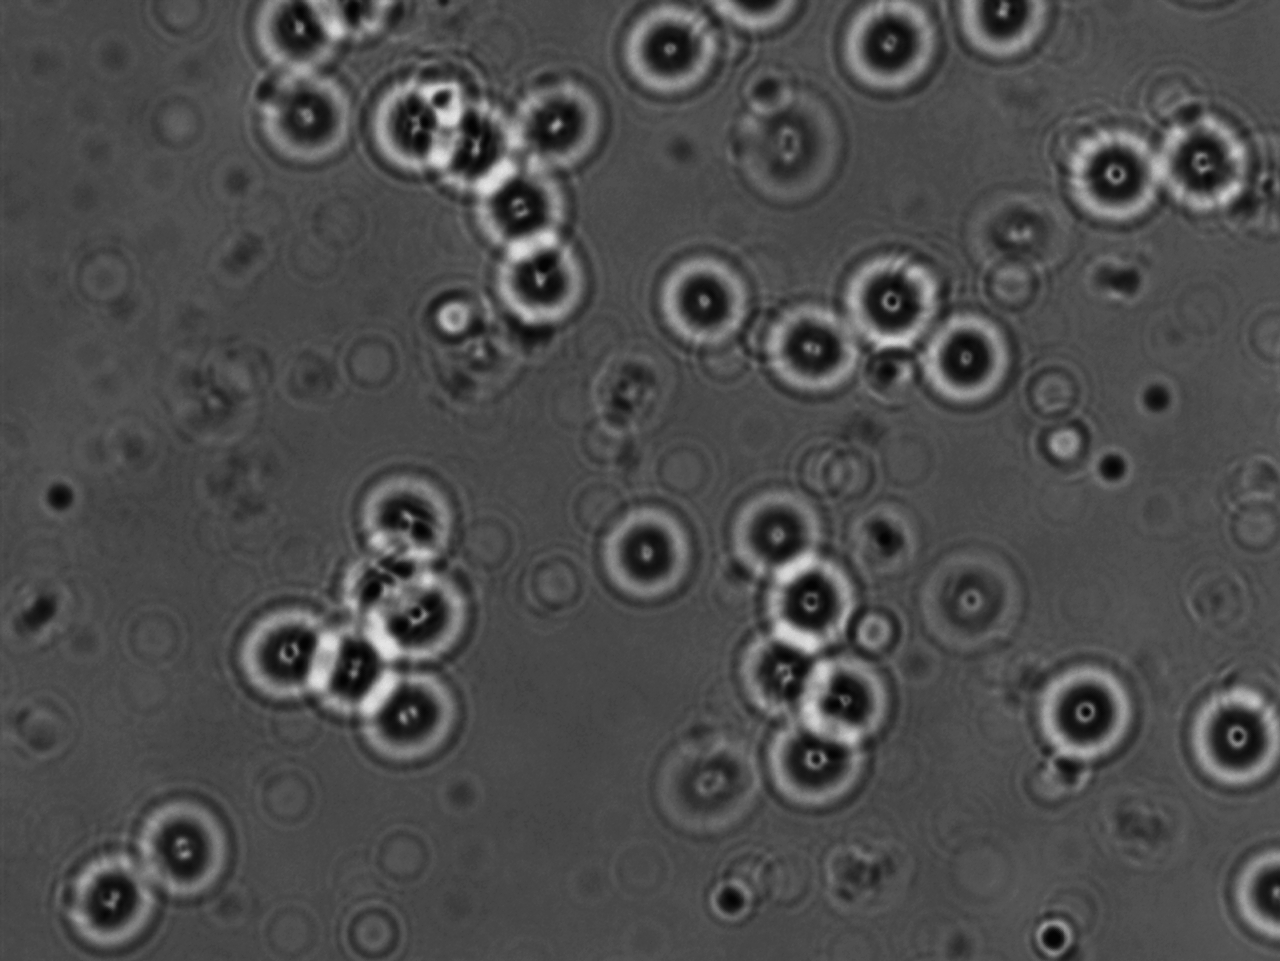depth:-8: (785, 637, 921, 768), (582, 485, 714, 613), (718, 608, 850, 723), (341, 456, 477, 567), (347, 660, 470, 777), (127, 789, 248, 907), (222, 589, 339, 711), (1055, 117, 1175, 235), (1152, 100, 1269, 221), (830, 235, 944, 359), (916, 292, 1026, 418), (355, 76, 473, 191), (752, 547, 875, 657), (757, 708, 877, 819), (1033, 650, 1142, 772), (647, 235, 753, 360), (748, 297, 861, 413), (487, 217, 597, 335), (297, 617, 406, 735), (615, 0, 738, 103), (246, 66, 357, 177), (49, 842, 157, 955), (723, 477, 836, 585), (417, 95, 532, 201), (363, 568, 477, 668), (462, 157, 577, 255), (1181, 676, 1280, 789)
